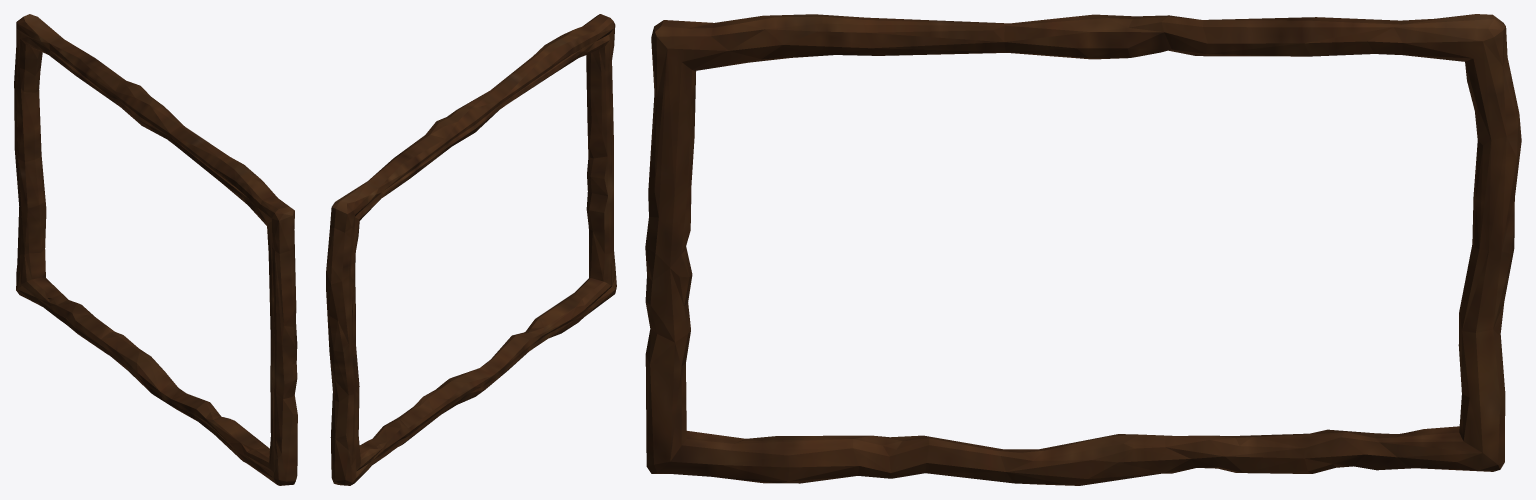
The model's file is Frame.fbx.
3 renders of one model, left to right at view 1: azimuth 30°, elevation 25°; view 2: azimuth 150°, elevation 25°; view 3: azimuth 270°, elevation 25°, orthographic. The views are drawn at different scales.
Parts seen in each view (by area): view 1: frame; view 2: frame; view 3: frame.
Part boxes in pixels (left/top/right/bottom): frame: left=14, top=14, right=297, bottom=485; frame: left=326, top=14, right=616, bottom=485; frame: left=645, top=14, right=1521, bottom=485.
Size of the model in its own units: 0.1104 by 1.21 by 2.05.
